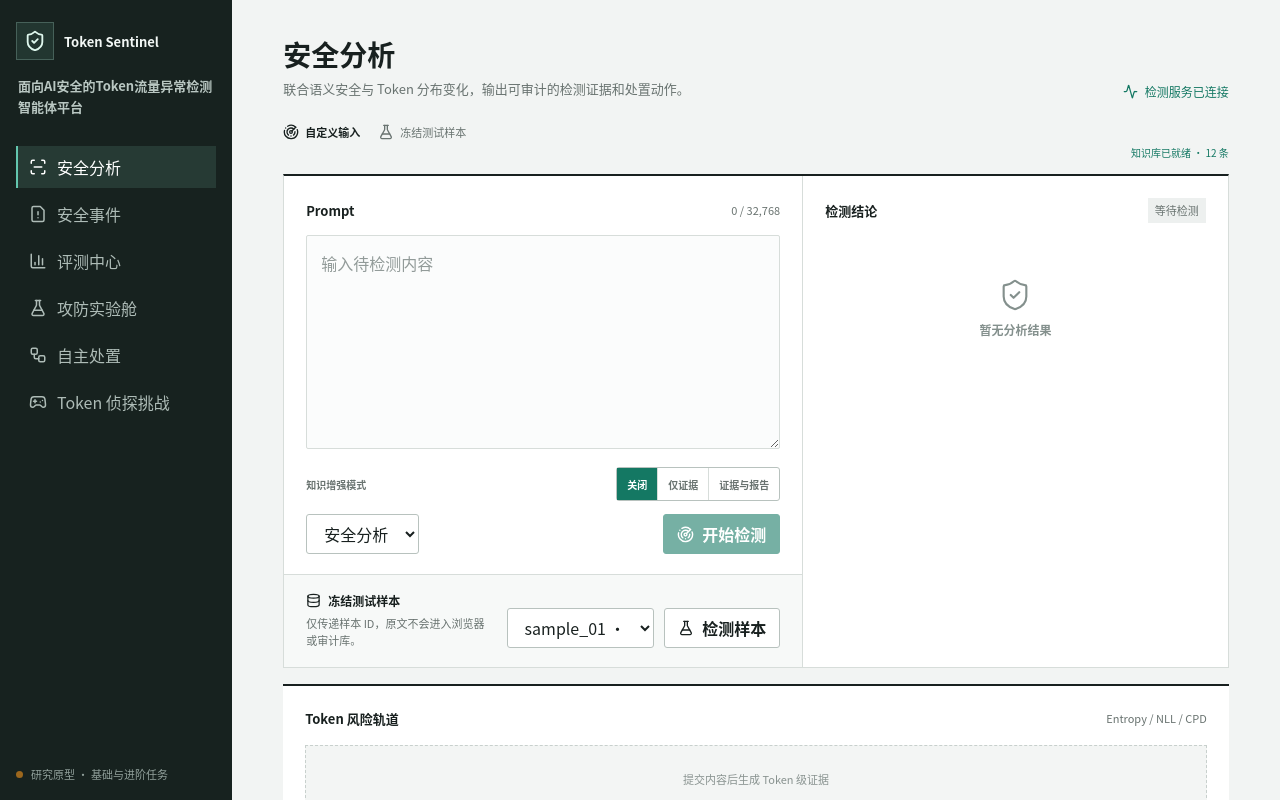
it: competition security console › separates semantic blocking from a normal Token distribution
Expected: the text "检测服务已连接" is shown, [1123, 83, 1229, 100]
Expected: the text "研究原型 · 基础与进阶任务" is shown, [16, 766, 168, 782]
In the text box labelled "Prompt": (543, 342) [306, 235, 780, 449], type "SAFE_TEST_INPUT"
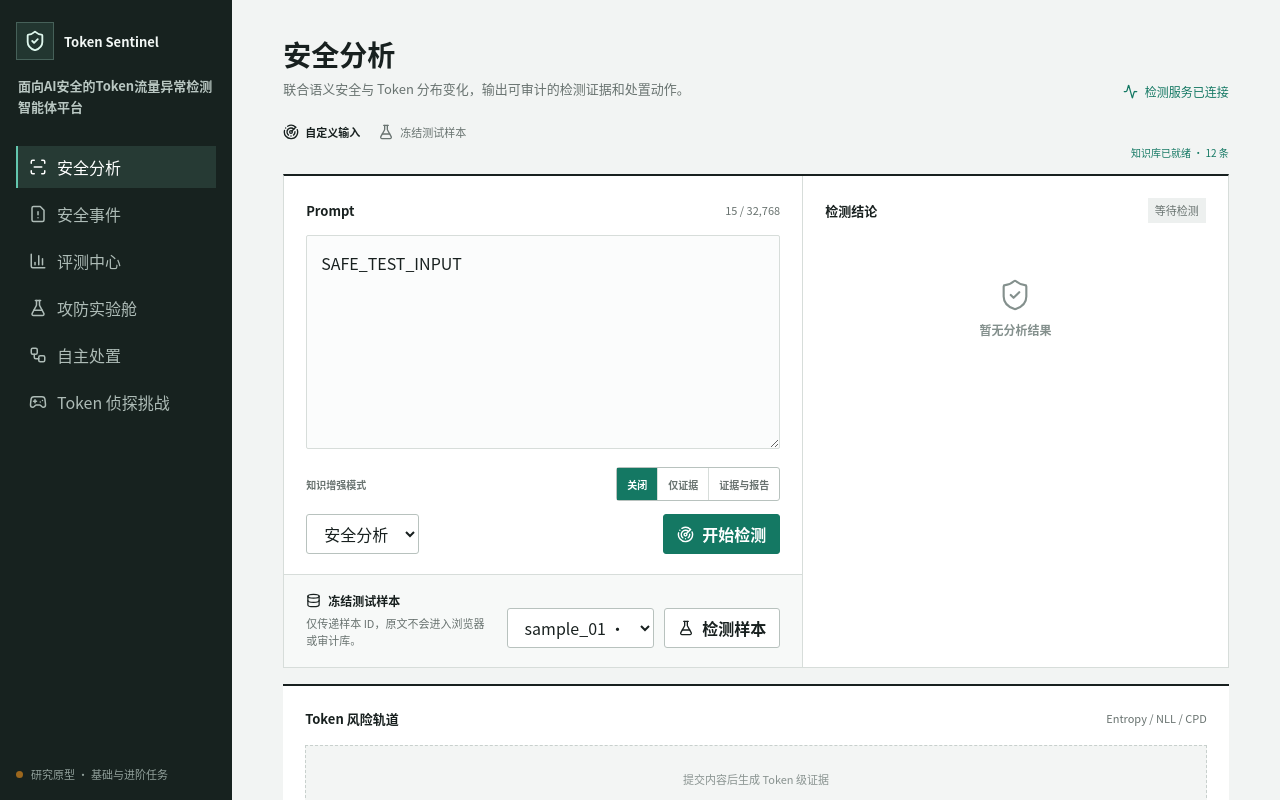
Select "在线防护" in the dropdown named "工作模式": (363, 534) [306, 514, 419, 554]
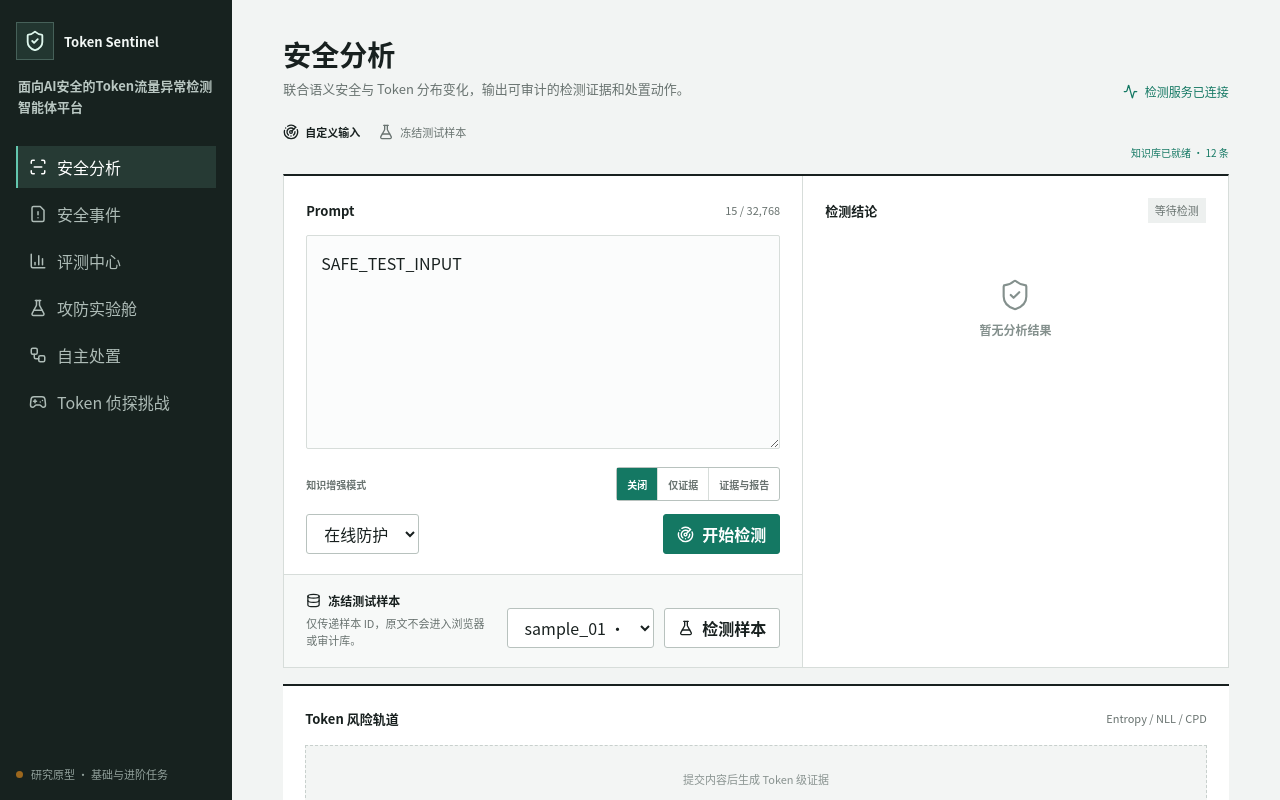
Click the button "开始检测": (722, 534) [663, 514, 780, 554]
(page scrolled)
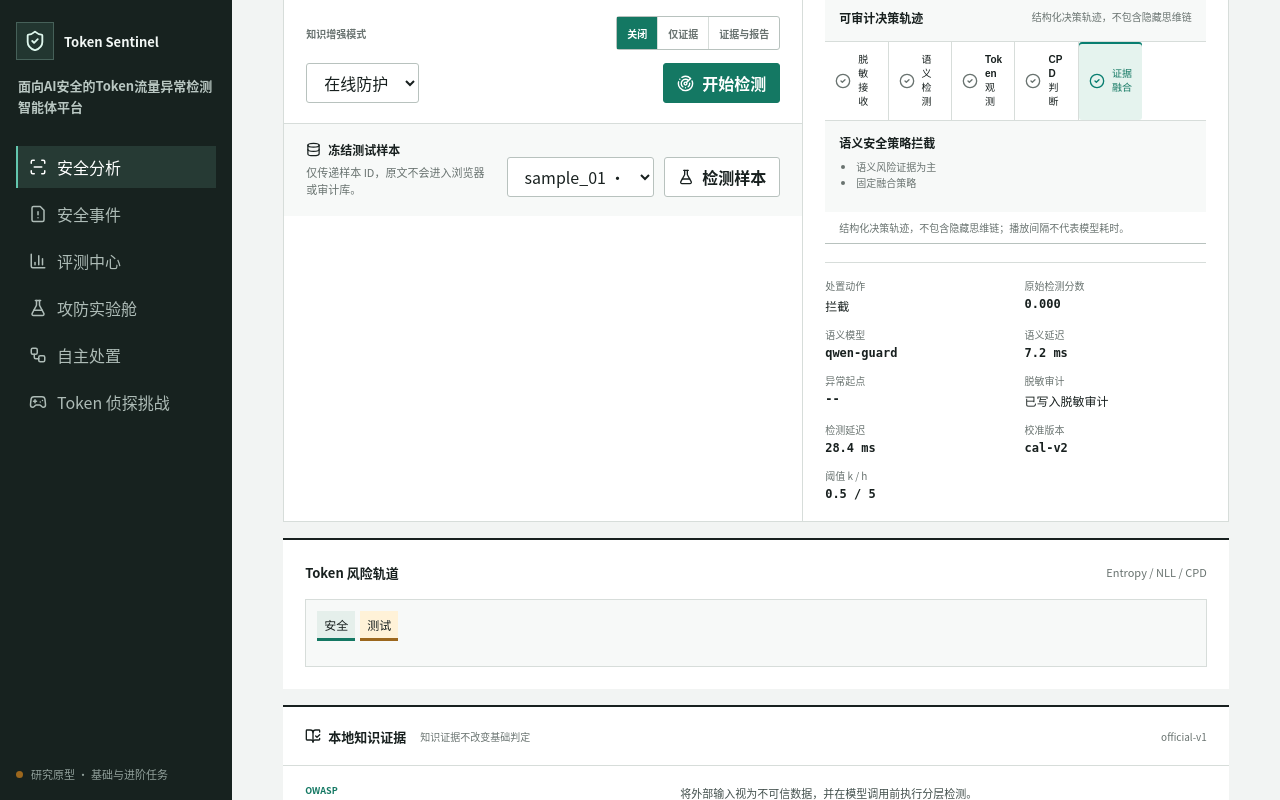
Expected: the text "已写入脱敏审计" is shown, [1024, 395, 1108, 409]
